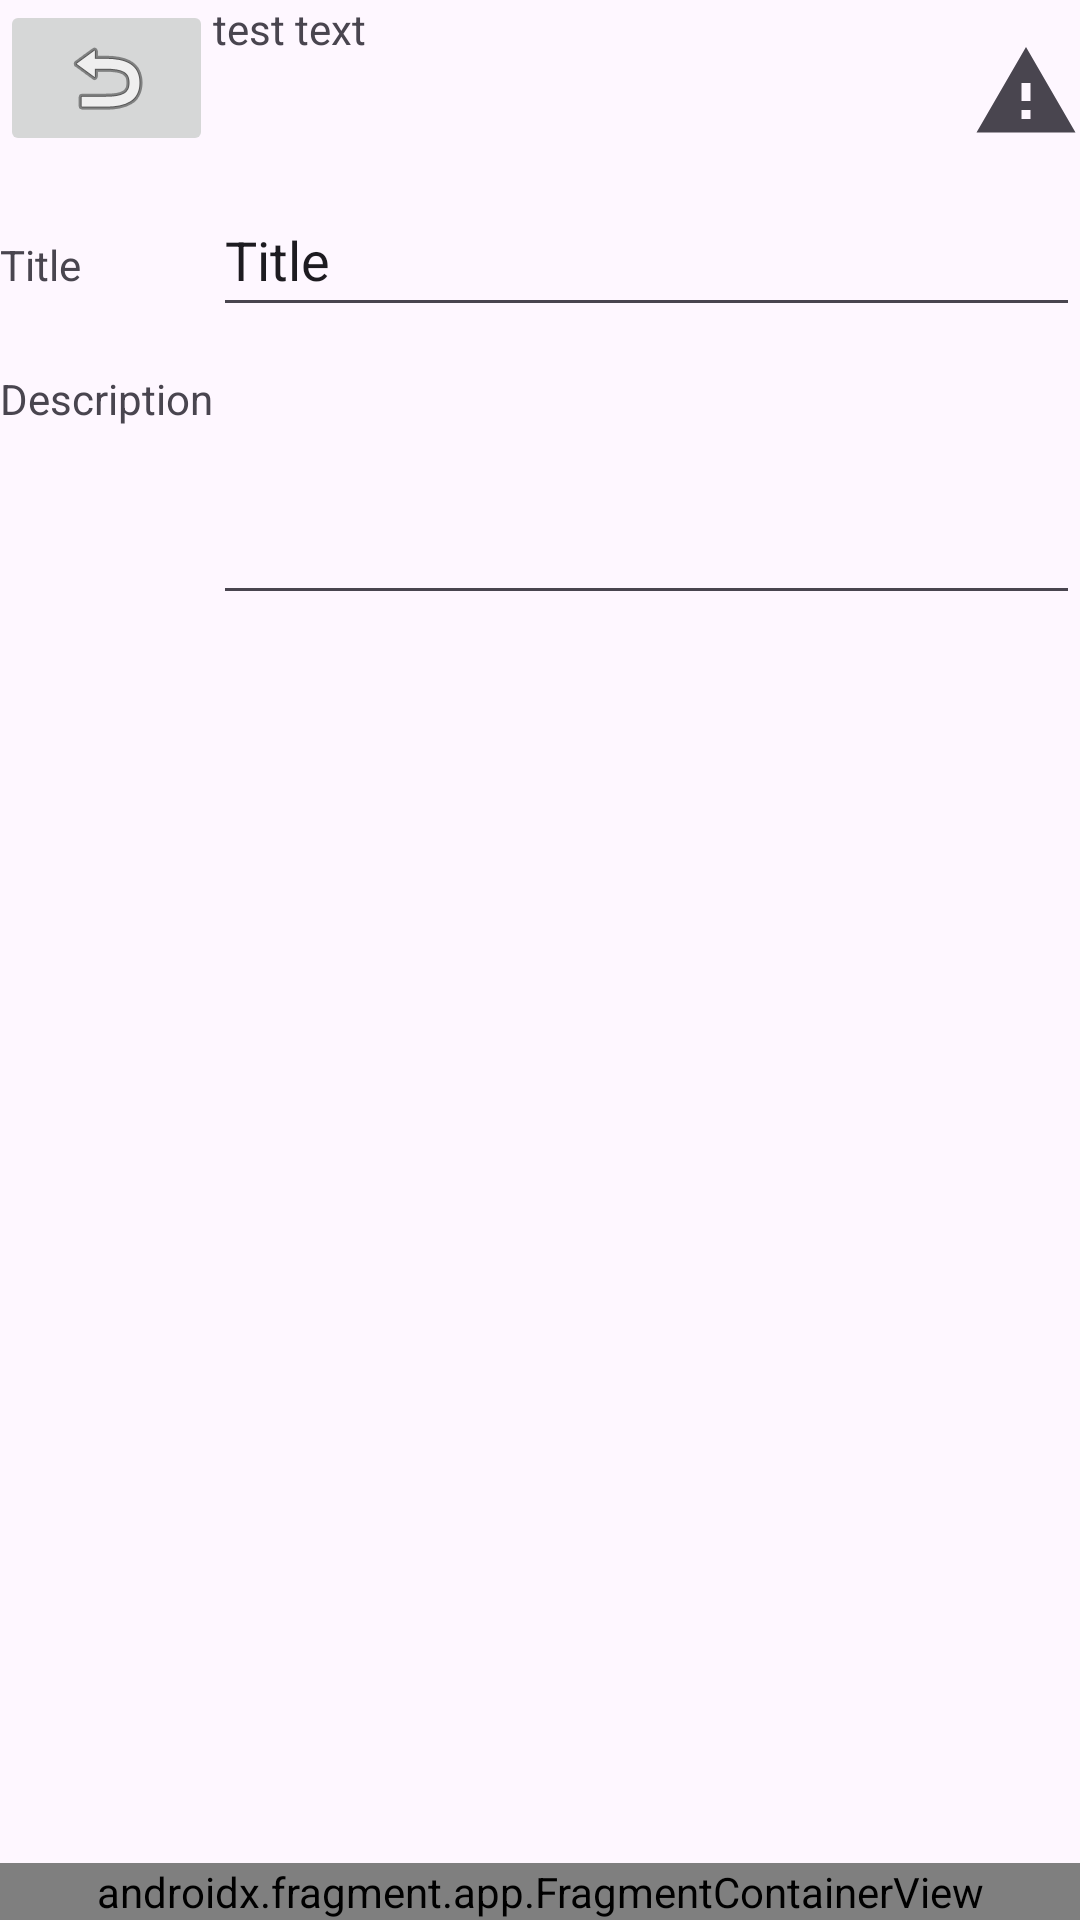

Icon bounding boxes for this 1080px×1920px phone screenshot, format (x1, y1, x2, y2):
Back: (12, 18, 201, 138)
